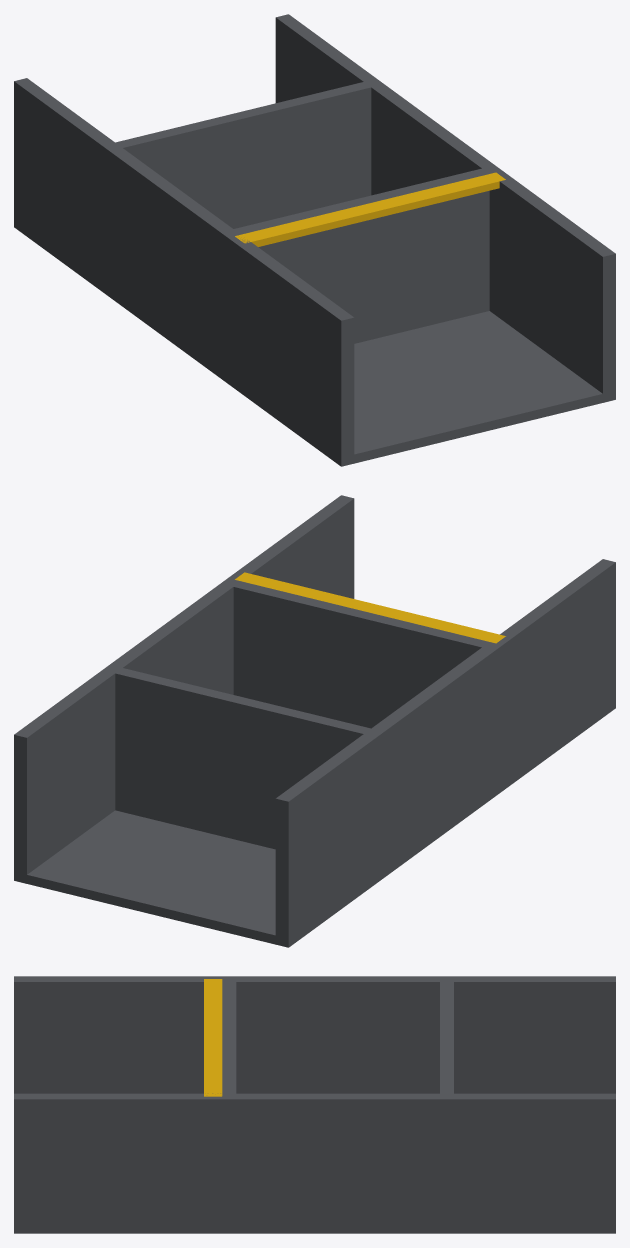
The model's file is tool_rack.glb.
3 views of the same model, one above another, from view 1: azimuth 30°, elevation 25°; view 2: azimuth 150°, elevation 25°; view 3: azimuth 270°, elevation 25° (orthographic). The views are drawn at different scales.
Parts seen in each view (by area): view 1: tool_rack; view 2: tool_rack; view 3: tool_rack.
Boxes of the visible parts, x1=… form: tool_rack: x1=14, y1=14, x2=615, y2=466; tool_rack: x1=14, y1=495, x2=615, y2=947; tool_rack: x1=14, y1=976, x2=615, y2=1233.
Bounding box in the file's own units: 0.63 × 0.32 × 1.3.
